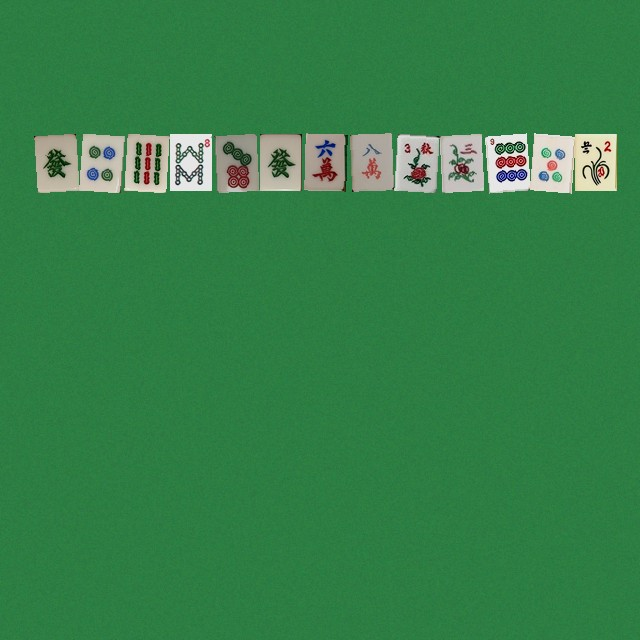tile: (34, 133, 76, 190), (79, 133, 121, 190), (124, 133, 166, 190), (169, 133, 211, 190), (214, 133, 256, 190), (259, 133, 301, 190), (304, 133, 346, 190), (349, 133, 391, 190), (394, 133, 436, 190), (439, 133, 481, 190), (484, 133, 526, 190), (529, 133, 571, 190), (574, 133, 616, 190)
